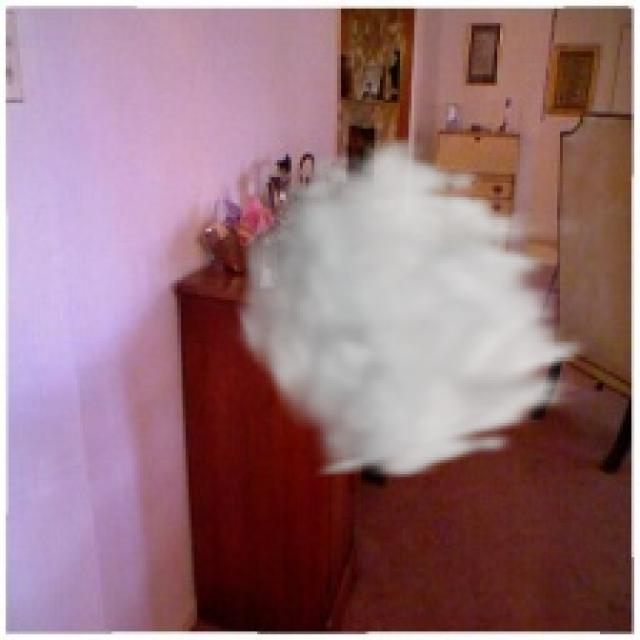smoke: (229, 131, 600, 483)
